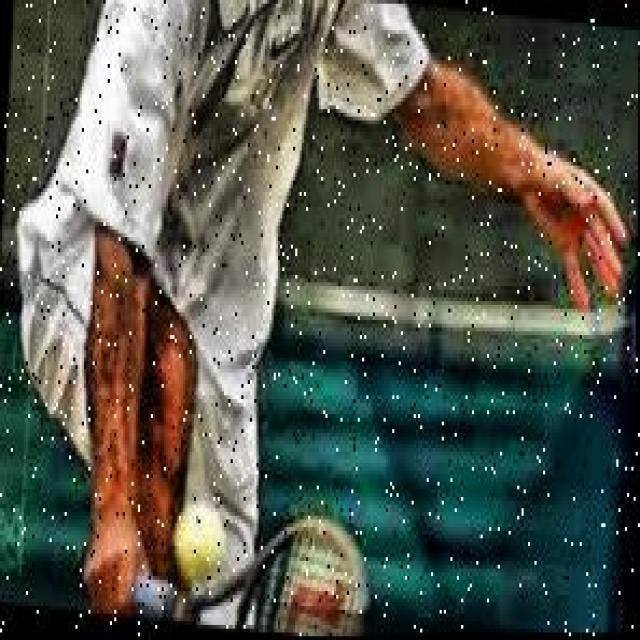tennis-ball: (172, 498, 222, 586)
